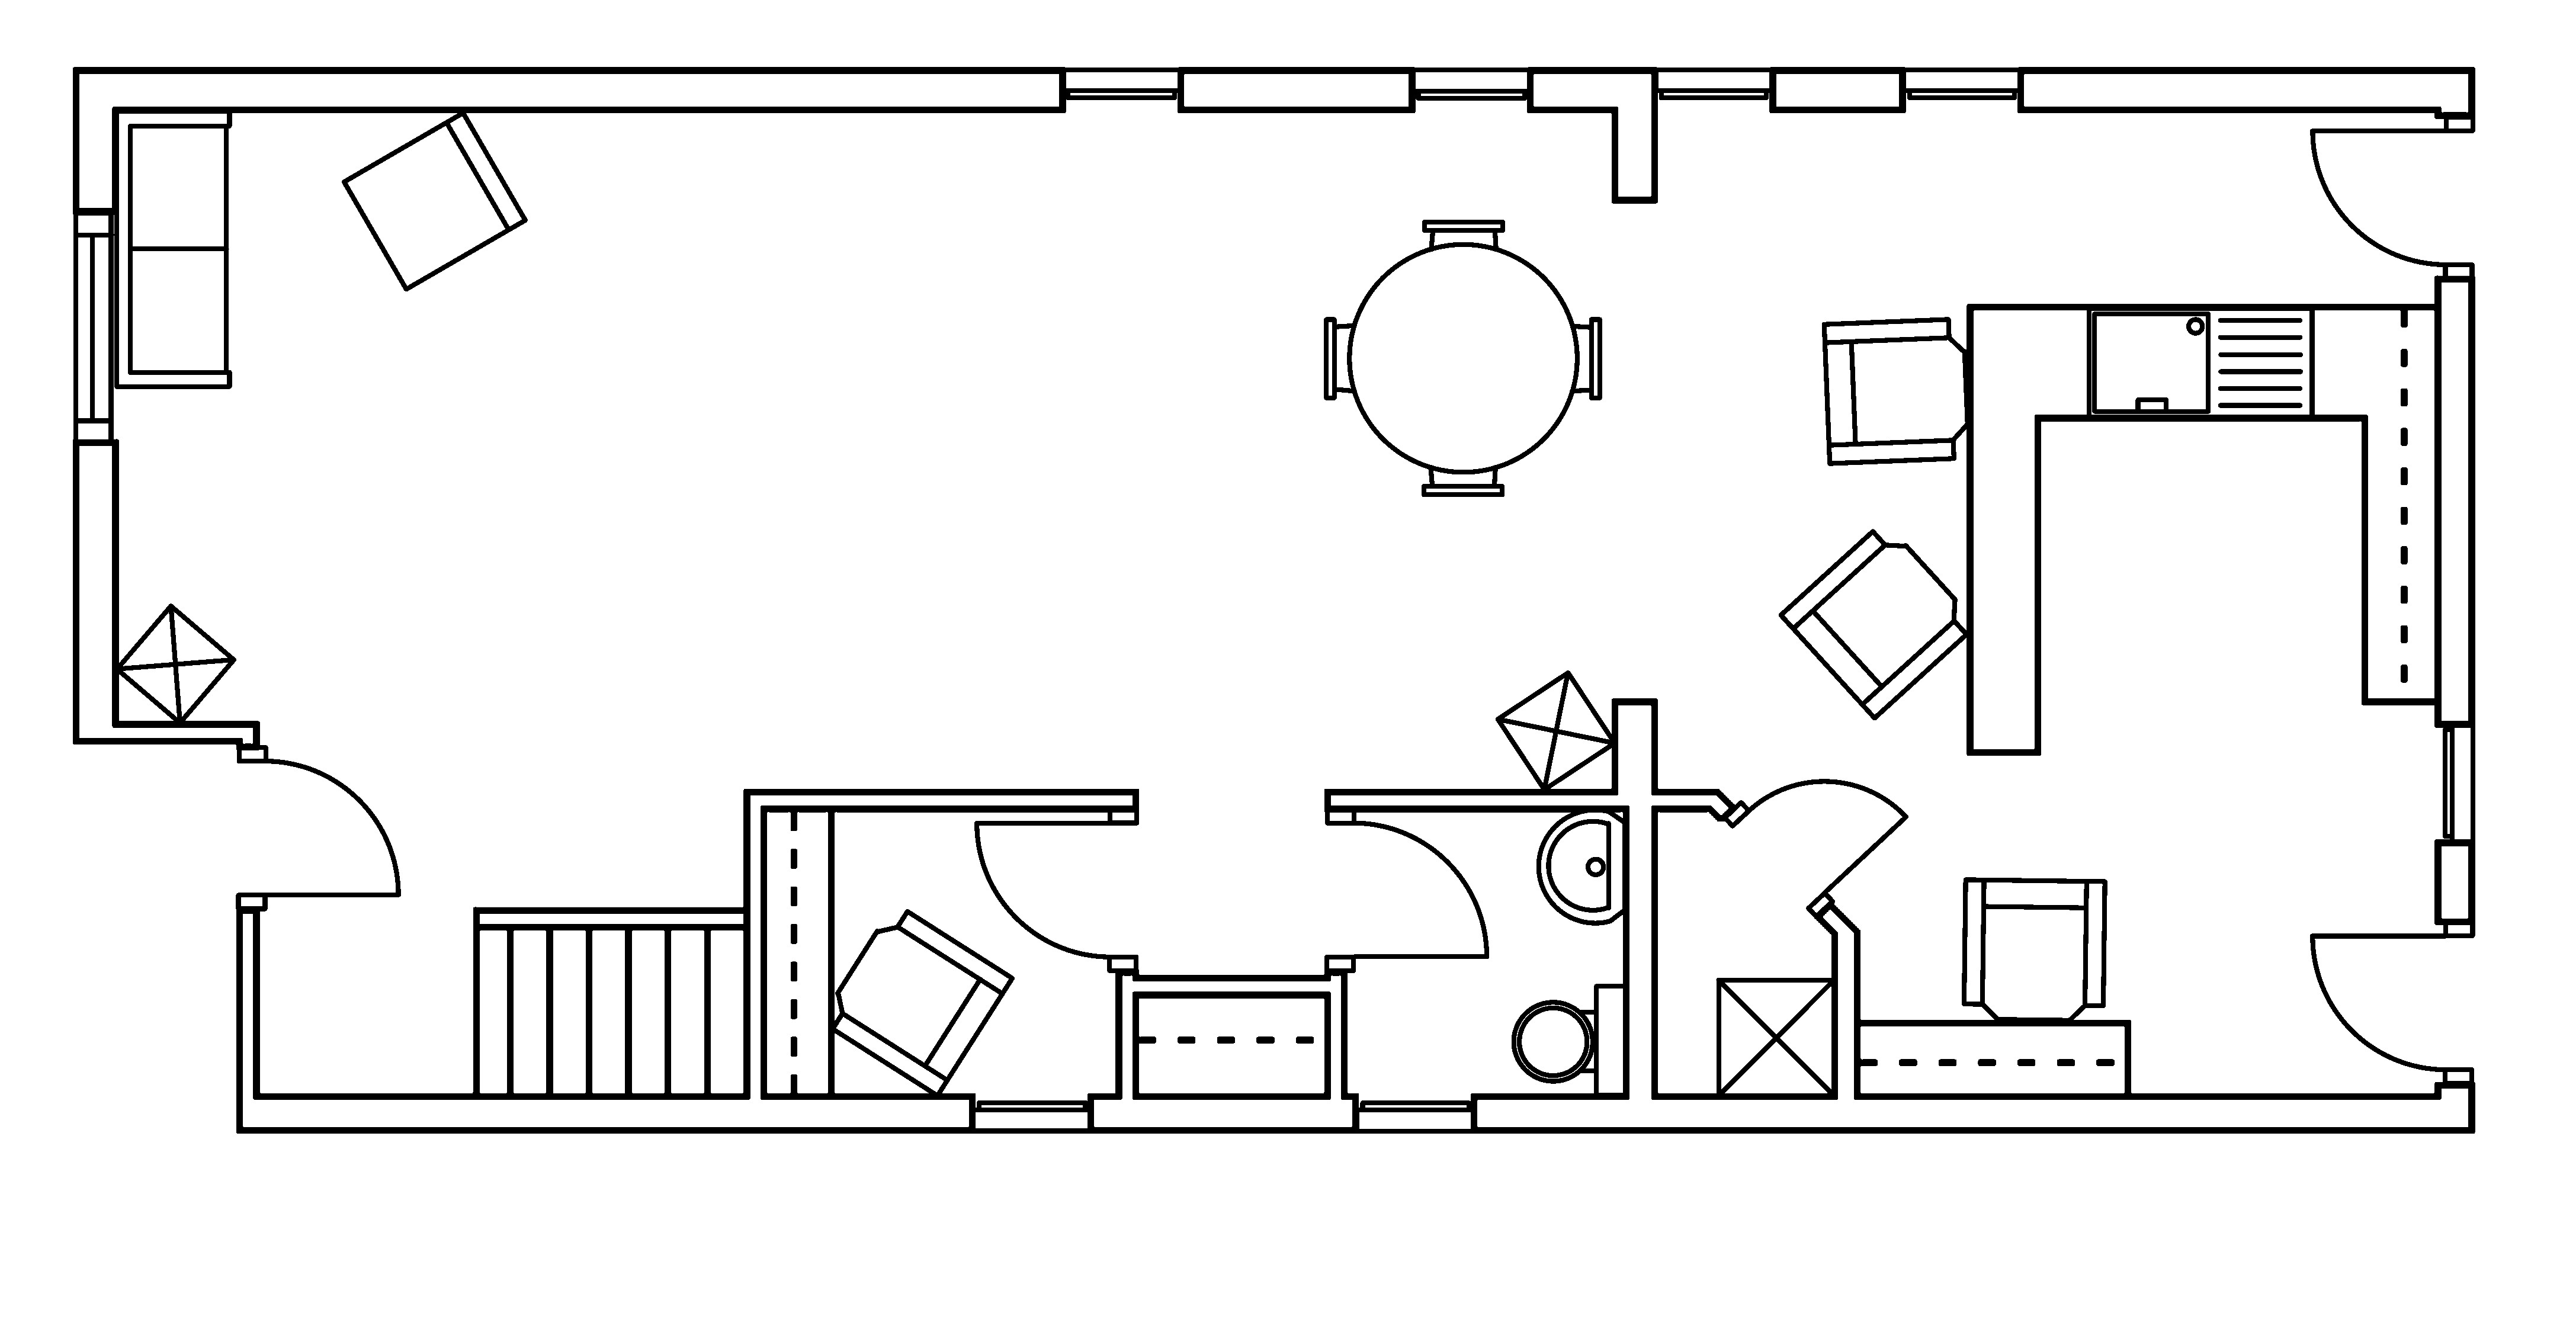armchair: (1777, 528, 1969, 720), (829, 908, 1014, 1099), (1821, 316, 1971, 466), (1961, 877, 2107, 1023)
coffee_table: (113, 602, 237, 725), (1493, 670, 1618, 792), (1715, 976, 1836, 1099)
large_sink: (1512, 983, 1628, 1097)
large_sofa: (113, 108, 232, 389)
round_table: (1323, 219, 1602, 496)
sink: (2085, 305, 2314, 421)
small_sink: (1535, 808, 1628, 925)
small_sofa: (341, 109, 528, 291)
